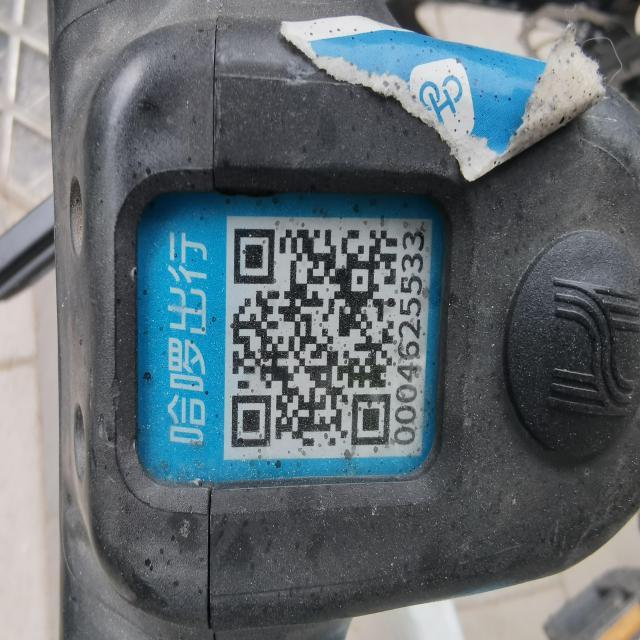qr_code: (232, 230, 398, 448)
